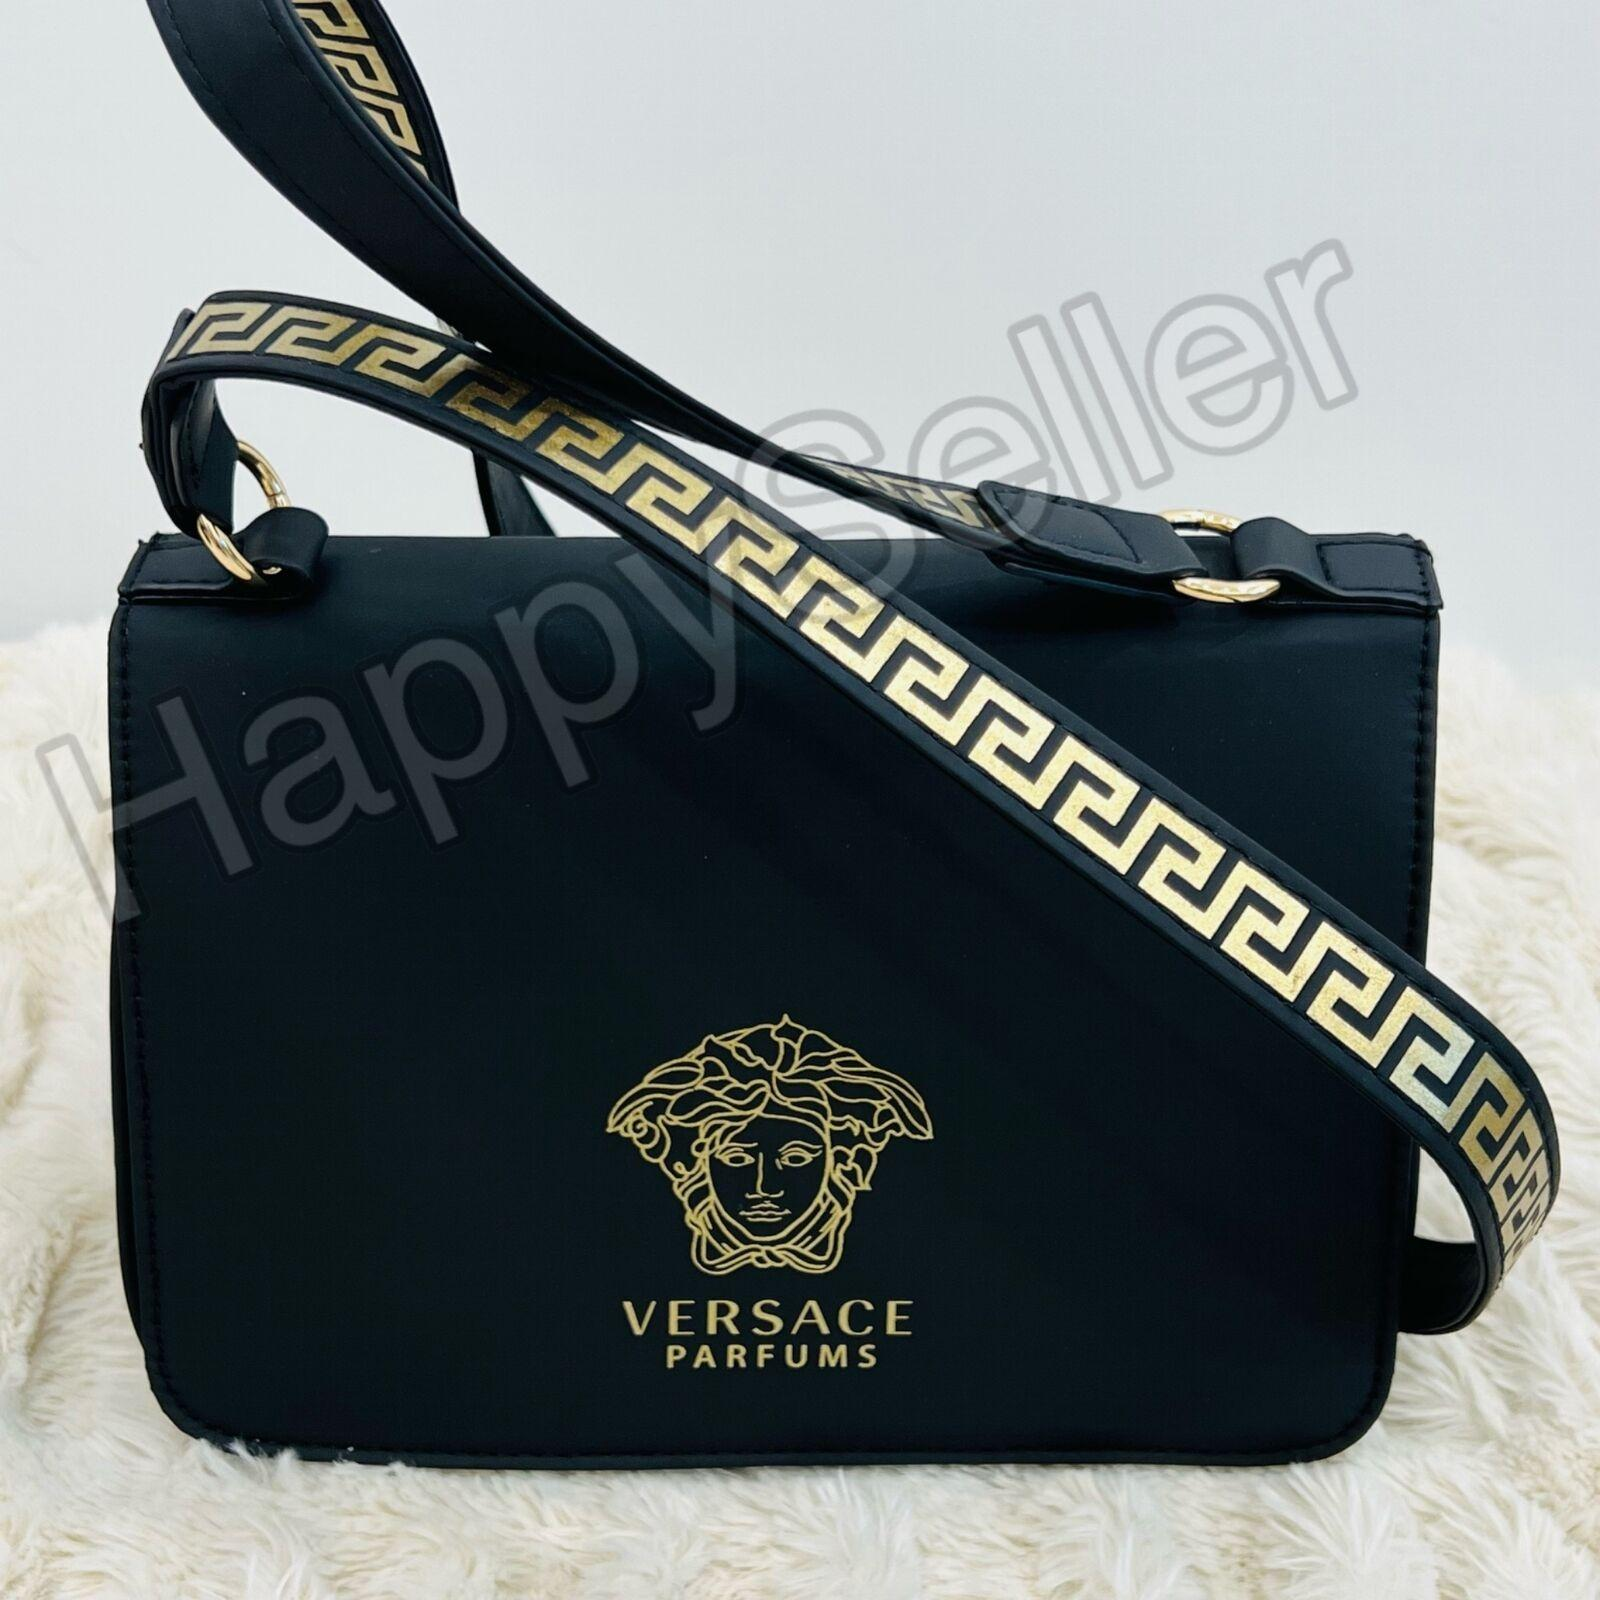VERSACE: (604, 1010, 938, 1275)
